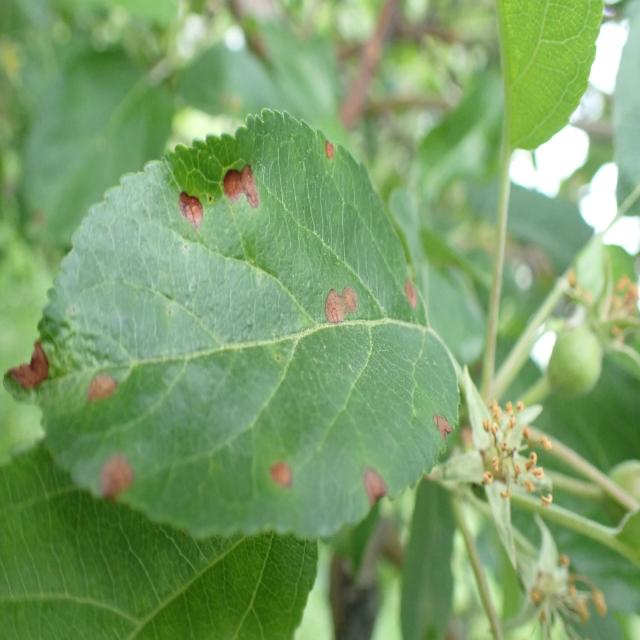Black Rot: (218, 135, 262, 246), (91, 441, 152, 521), (312, 272, 374, 329), (352, 458, 396, 531), (82, 350, 128, 419), (256, 433, 296, 507), (168, 170, 207, 239), (426, 405, 463, 466), (309, 128, 343, 182), (401, 268, 424, 325)
